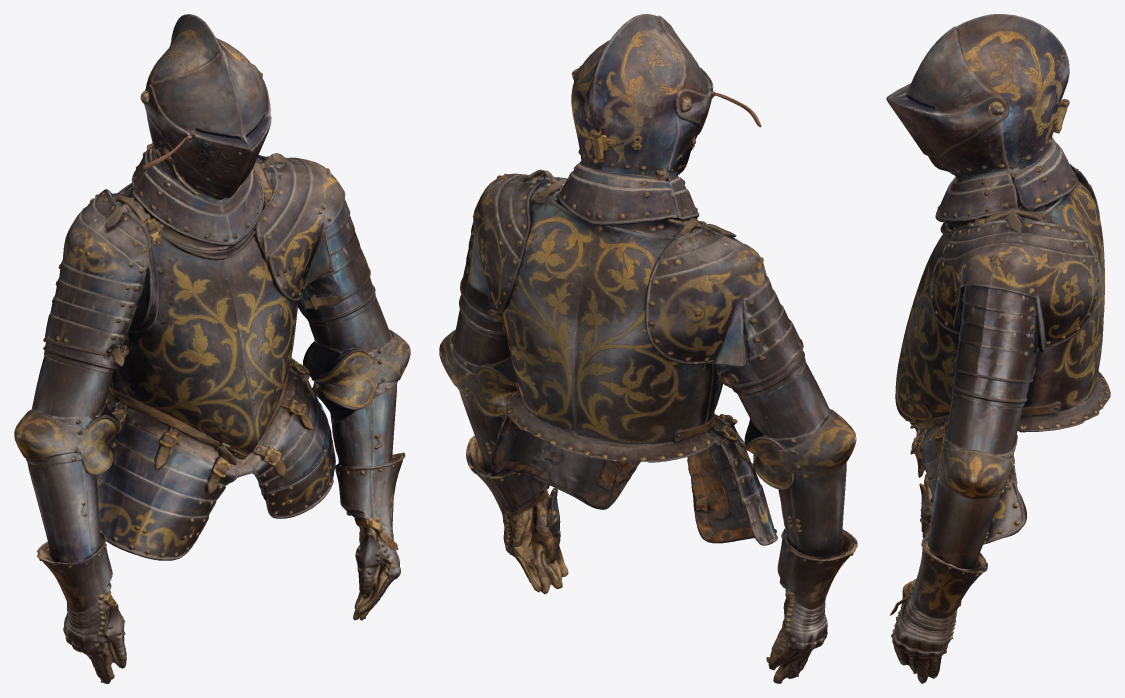
File: knight.glb
3 views of the same model, side by side, from view 1: azimuth 30°, elevation 25°; view 2: azimuth 150°, elevation 25°; view 3: azimuth 270°, elevation 25° (orthographic). The views are drawn at different scales.
Parts seen in each view (by area): view 1: W2770_final; view 2: W2770_final; view 3: W2770_final.
Boxes of the visible parts, <box> form: W2770_final: <box>14,14,410,683</box>; W2770_final: <box>439,14,857,683</box>; W2770_final: <box>886,14,1110,683</box>.
Bounding box in the file's own units: 5.44 × 8.18 × 2.66.
Materials: 1 (1 with a texture image).
